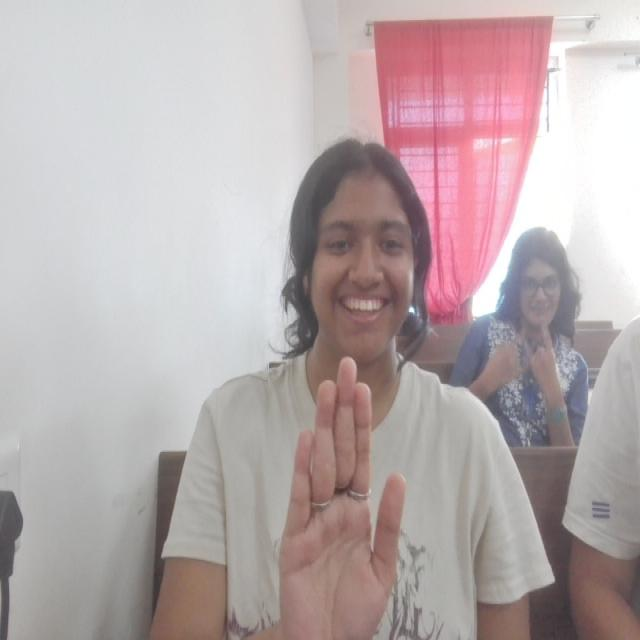hello: (277, 353, 410, 640)
